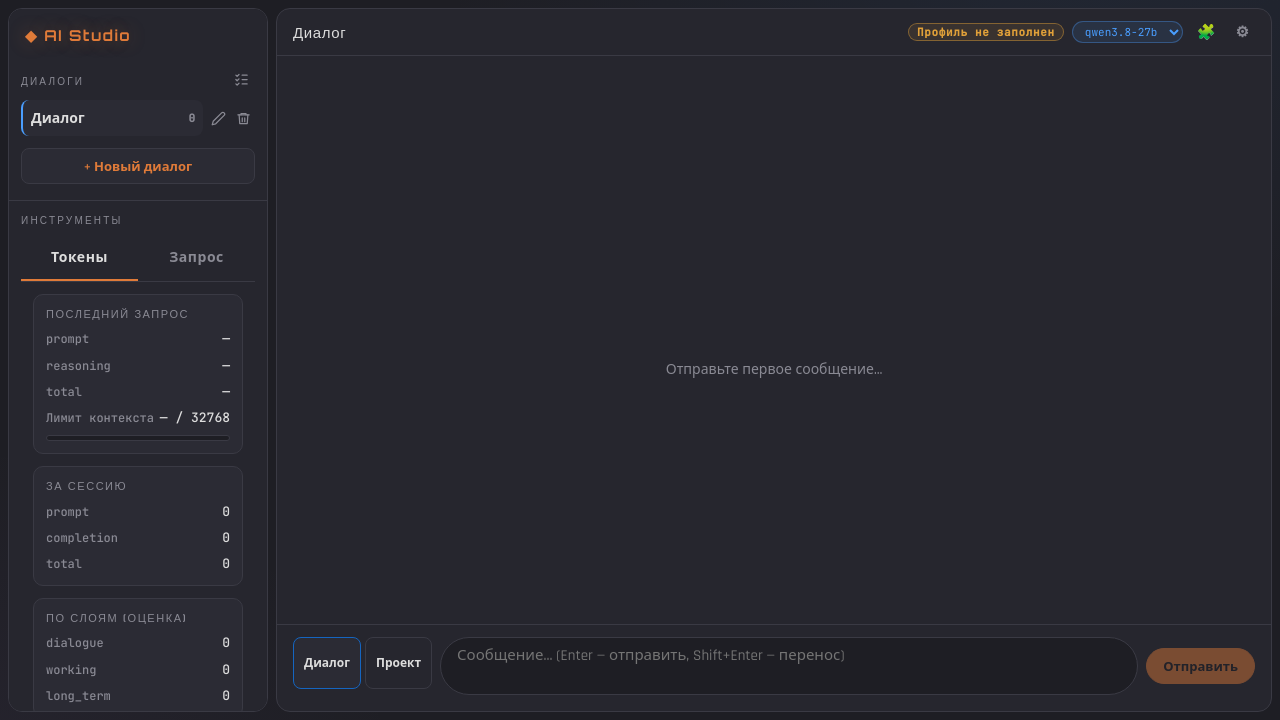
Settings overlay — открытие и закрытие › клик по «⚙» → overlay открывается: 3 вкладки + кнопка «×»; «×» закрывает
The width and height of the screenshot is (1280, 720).
Click the button named "Настройки": [1242, 32] box left=1230, top=22, right=1255, bottom=42
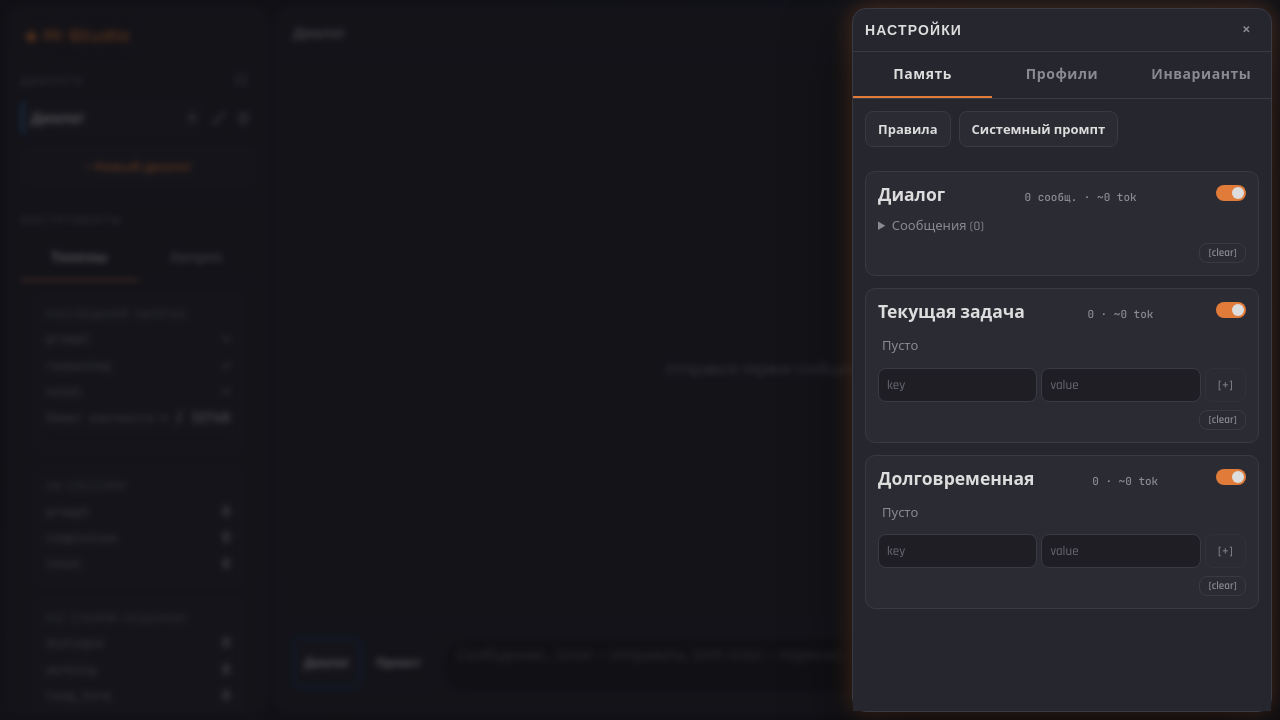
Expected: the tab "Память" is shown, left=853, top=52, right=992, bottom=98
Expected: the tab "Профили" is shown, left=992, top=52, right=1132, bottom=98
Expected: the tab "Инварианты" is shown, left=1132, top=52, right=1271, bottom=98
Click the button named "Закрыть настройки": [1246, 30] box left=1234, top=17, right=1259, bottom=43
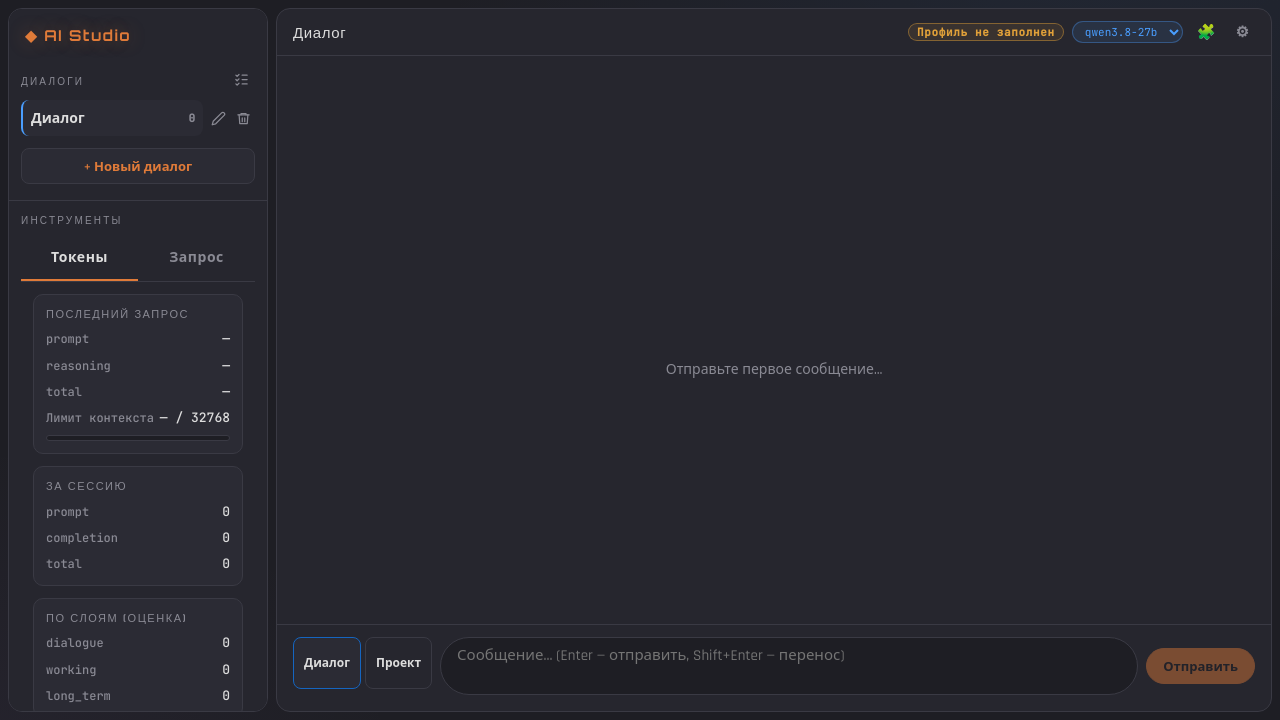
Expected: the tab "Память" is gone
Expected: the button "×" is gone
# повторный клик по «⚙» — снова открывает (toggle)
Click the button named "Настройки": [1242, 32] box left=1230, top=22, right=1255, bottom=42
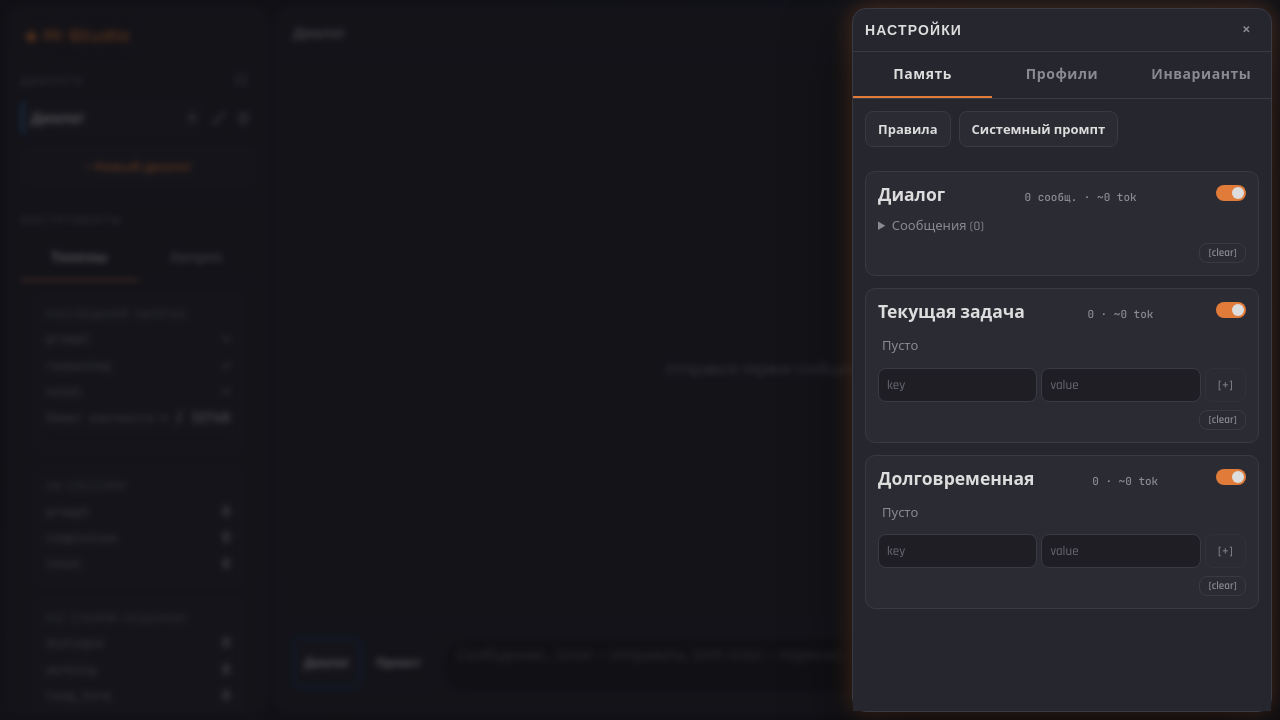
Expected: the tab "Память" is shown, left=853, top=52, right=992, bottom=98
